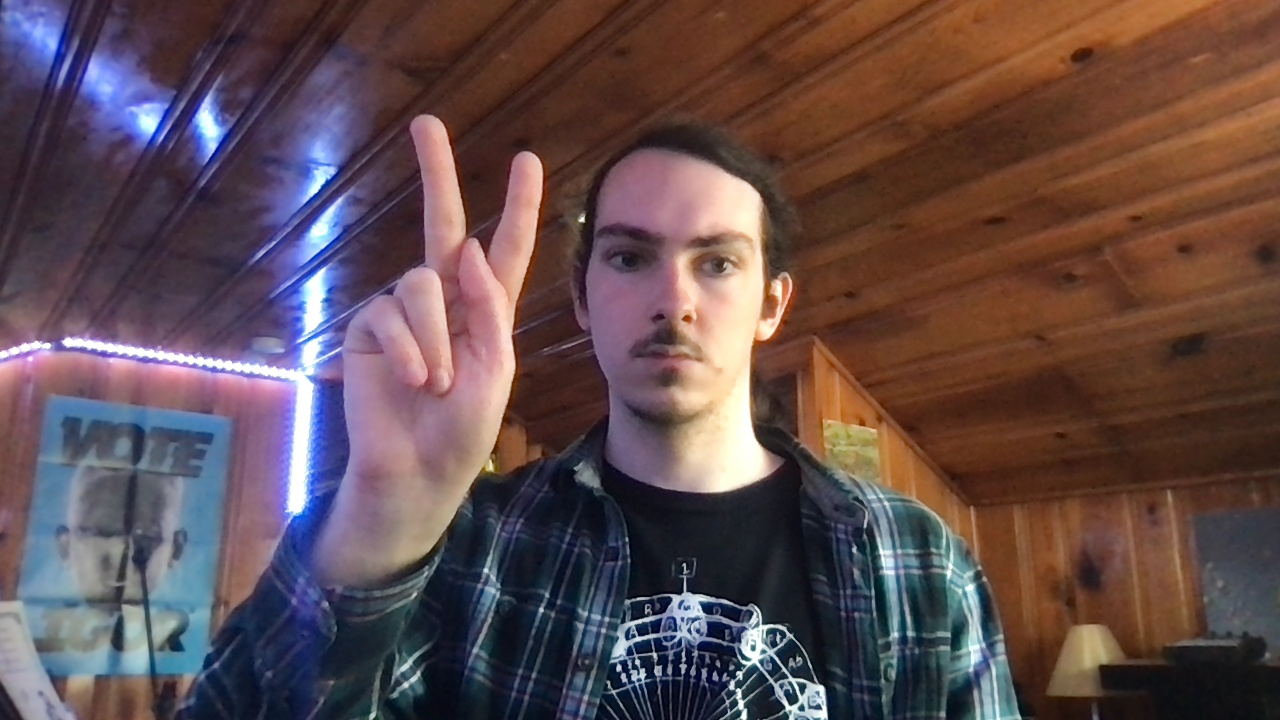k: (338, 112, 547, 479)
